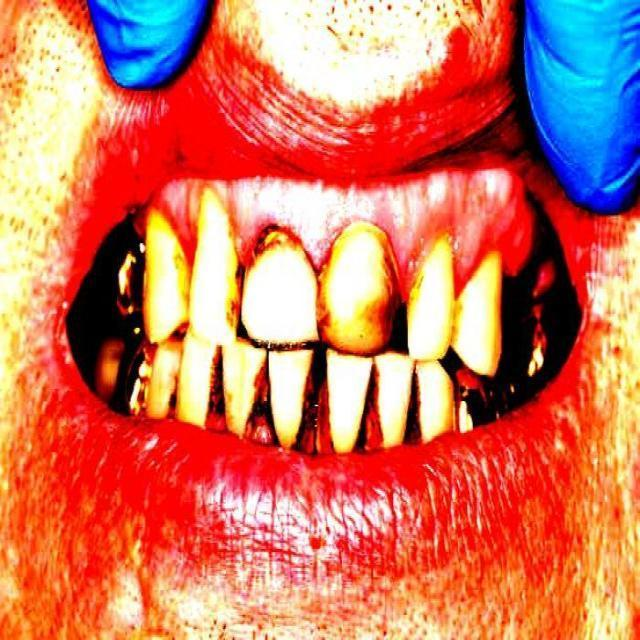CALCULUS: (529, 288, 562, 359), (114, 245, 143, 297), (135, 335, 155, 399), (362, 293, 390, 327), (226, 272, 248, 311), (257, 369, 275, 413), (292, 399, 313, 431), (165, 232, 185, 262), (461, 383, 484, 403)
